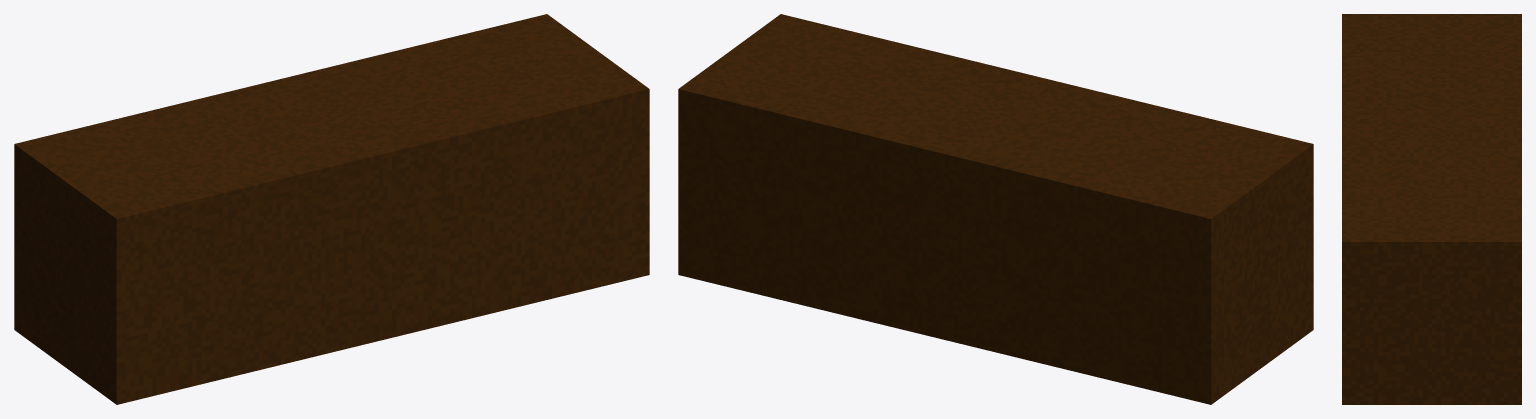
Rendered from LargeRocks-2-Rock3_LOD2.obj.
The picture shows the model from 3 angles, left to right: view 1: azimuth 30°, elevation 25°; view 2: azimuth 150°, elevation 25°; view 3: azimuth 270°, elevation 25°; orthographic projection. The views are drawn at different scales.
Parts seen in each view (by area): view 1: Rock3_LOD2; view 2: Rock3_LOD2; view 3: Rock3_LOD2.
Boxes of the visible parts, x1=… form: Rock3_LOD2: x1=14, y1=14, x2=649, y2=404; Rock3_LOD2: x1=678, y1=14, x2=1313, y2=404; Rock3_LOD2: x1=1342, y1=14, x2=1521, y2=404.
Bounding box in the file's own units: 12 × 4 × 4.
1 material, 1 textured.
